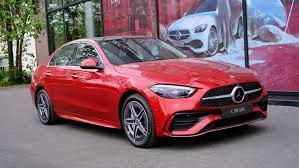mercedes: (232, 87, 246, 104)
